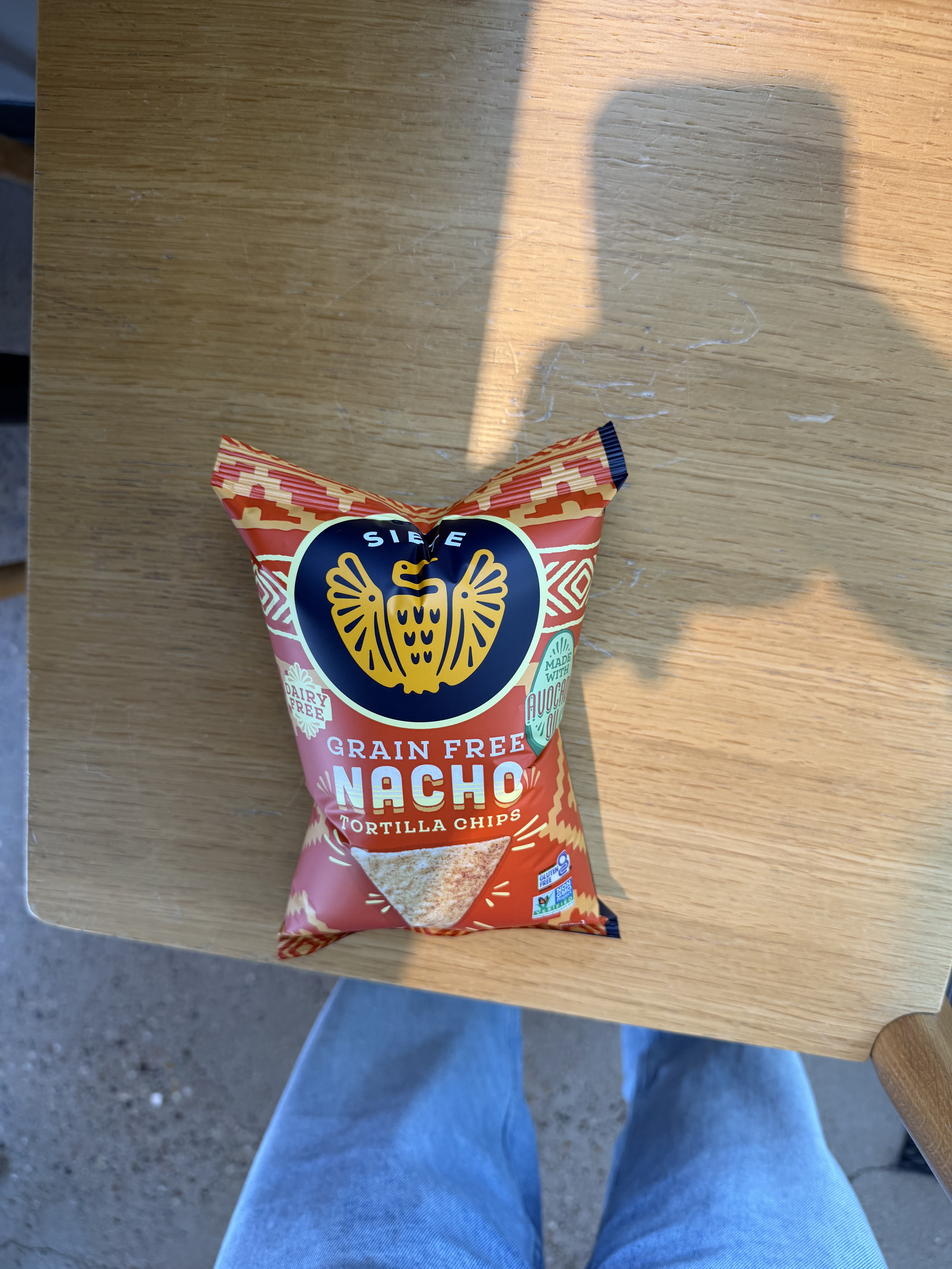nacho: (176, 404, 671, 960)
